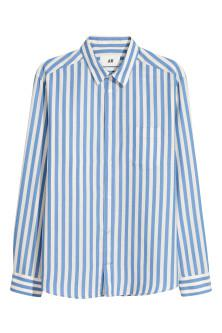teeshirt: (7, 32, 214, 303)
